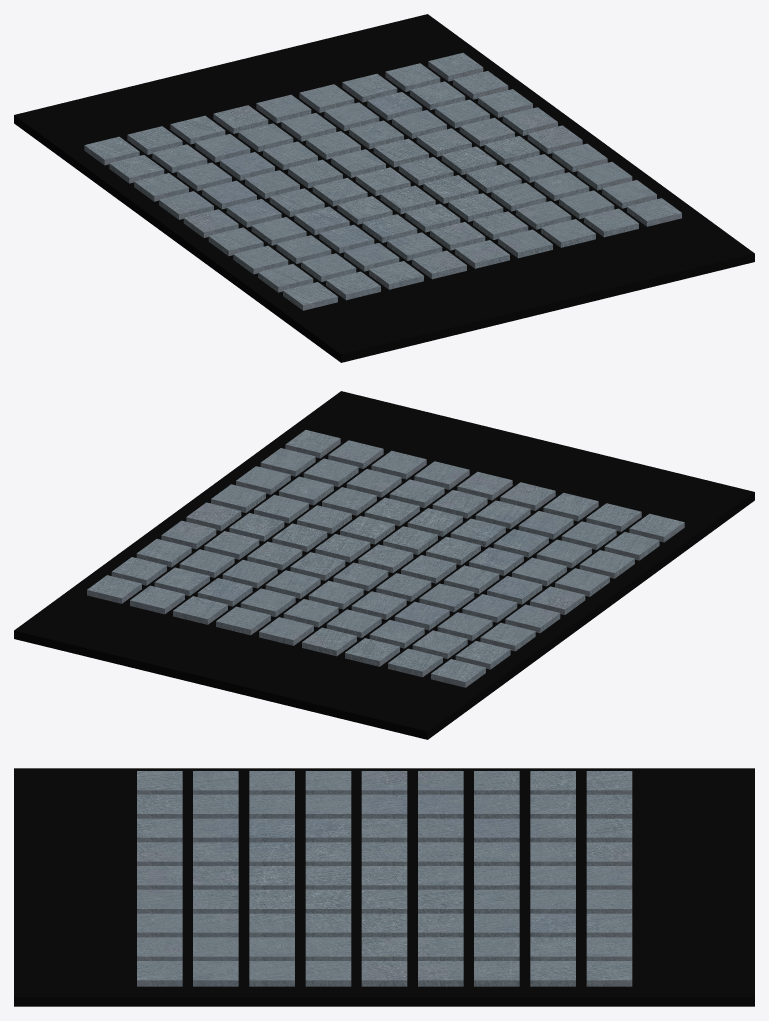
Rendered from boardNoTable.obj.
3 renders of one model, top to bottom at view 1: azimuth 30°, elevation 25°; view 2: azimuth 150°, elevation 25°; view 3: azimuth 270°, elevation 25°, orthographic. The views are drawn at different scales.
Visible parts, largest first — view 1: Untitled_ID1303, Mesh.160_ID1287, Mesh.142_ID1143, Mesh.124_ID999, Mesh.106_ID855, Mesh.073_ID591, Mesh.054_ID439, Mesh.016_ID135, Mesh.052_ID423, Mesh.018_ID151, Mesh.140_ID1127, Mesh.119_ID959 (+70 smaller); view 2: Untitled_ID1303, Mesh.144_ID1159, Mesh.072_ID583, Mesh_ID2, Mesh.108_ID871, Mesh.071_ID575, Mesh.037_ID303, Mesh.126_ID1015, Mesh.090_ID727, Mesh.030_ID247, Mesh.099_ID799, Mesh.091_ID735 (+70 smaller); view 3: Untitled_ID1303, Mesh.155_ID1247, Mesh.153_ID1231, Mesh.144_ID1159, Mesh.160_ID1287, Mesh.158_ID1271, Mesh.156_ID1255, Mesh.151_ID1215, Mesh.148_ID1191, Mesh.145_ID1167, Mesh.101_ID815, Mesh.099_ID799 (+70 smaller).
Boxes of the visible parts, x1=… form: Untitled_ID1303: x1=14, y1=14, x2=754, y2=362; Mesh.160_ID1287: x1=627, y1=198, x2=681, y2=226; Mesh.142_ID1143: x1=584, y1=208, x2=638, y2=237; Mesh.124_ID999: x1=541, y1=219, x2=595, y2=247; Mesh.106_ID855: x1=498, y1=229, x2=552, y2=258; Mesh.073_ID591: x1=455, y1=240, x2=509, y2=268; Mesh.054_ID439: x1=412, y1=250, x2=466, y2=279; Mesh.016_ID135: x1=283, y1=282, x2=337, y2=310; Mesh.052_ID423: x1=369, y1=261, x2=423, y2=289; Mesh.018_ID151: x1=326, y1=271, x2=380, y2=300; Mesh.140_ID1127: x1=559, y1=190, x2=614, y2=219; Mesh.119_ID959: x1=466, y1=164, x2=521, y2=193; Untitled_ID1303: x1=14, y1=391, x2=754, y2=739; Mesh.144_ID1159: x1=87, y1=575, x2=141, y2=603; Mesh.072_ID583: x1=259, y1=617, x2=313, y2=645; Mesh_ID2: x1=431, y1=659, x2=485, y2=687; Mesh.108_ID871: x1=173, y1=596, x2=227, y2=624; Mesh.071_ID575: x1=302, y1=627, x2=356, y2=656; Mesh.037_ID303: x1=345, y1=638, x2=399, y2=666; Mesh.126_ID1015: x1=130, y1=585, x2=184, y2=614; Mesh.090_ID727: x1=216, y1=606, x2=270, y2=635; Mesh.030_ID247: x1=388, y1=648, x2=442, y2=677; Mesh.099_ID799: x1=315, y1=534, x2=370, y2=562; Mesh.091_ID735: x1=265, y1=570, x2=320, y2=598; Untitled_ID1303: x1=14, y1=768, x2=754, y2=1006; Mesh.155_ID1247: x1=305, y1=961, x2=351, y2=986; Mesh.153_ID1231: x1=361, y1=961, x2=407, y2=986; Mesh.144_ID1159: x1=586, y1=961, x2=632, y2=986; Mesh.160_ID1287: x1=137, y1=961, x2=182, y2=986; Mesh.158_ID1271: x1=193, y1=961, x2=238, y2=986; Mesh.156_ID1255: x1=249, y1=961, x2=294, y2=986; Mesh.151_ID1215: x1=418, y1=961, x2=463, y2=986; Mesh.148_ID1191: x1=530, y1=961, x2=575, y2=986; Mesh.145_ID1167: x1=474, y1=961, x2=519, y2=986; Mesh.101_ID815: x1=305, y1=889, x2=351, y2=913; Mesh.099_ID799: x1=361, y1=889, x2=407, y2=913.
Bounding box in the file's own units: 60.63 × 1.97 × 83.05.
